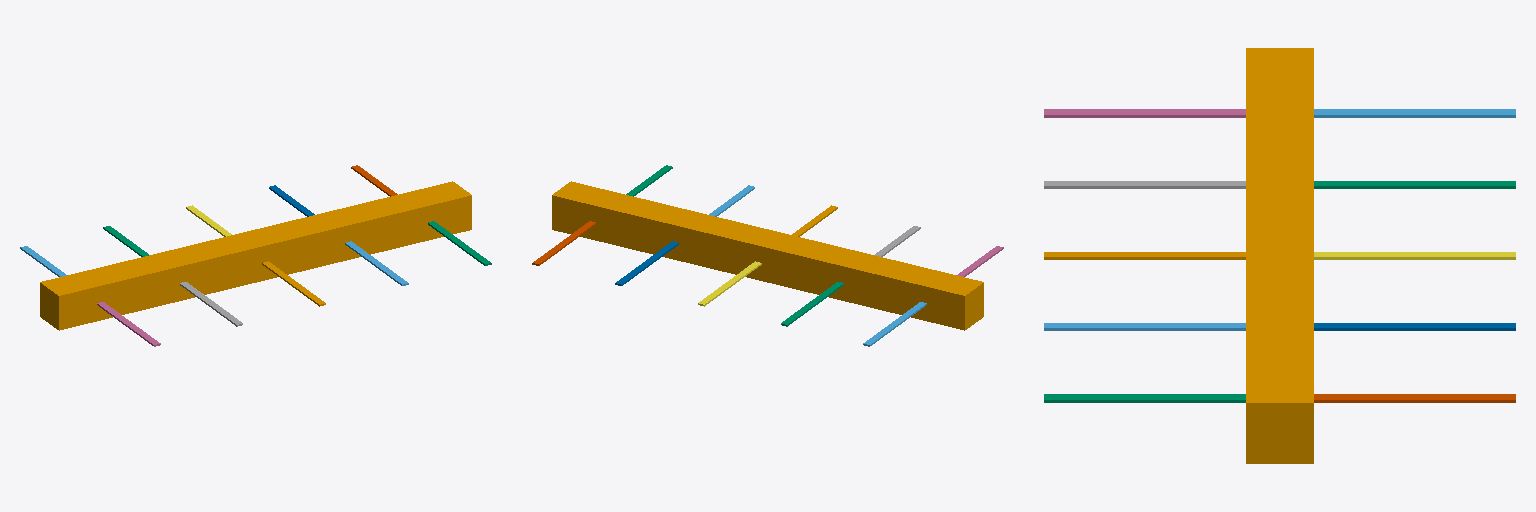
URDF robot description (bench_2s_10m):
<?xml version='1.0' encoding='utf-8'?>
<robot name="bench_2s_10m">
  <link name="extrusion_base">
    <inertial xyz="0 0 0" rpy="0 0 0">
      <mass value="2.16" />
      <inertia ixx="0.000576" iyy="0.045288" izz="0.045288" ixy="0" ixz="0" iyz="0" />
    </inertial>
    <visual>
      <origin xyz="0 0 0" rpy="0 0 0" />
      <geometry>
        <box size="0.5 0.04 0.04" />
      </geometry>
    </visual>
    <collision>
      <origin xyz="0 0 0" rpy="0 0 0" />
      <geometry>
        <box size="0.5 0.04 0.04" />
      </geometry>
    </collision>
  </link>
  <link name="bench_j1_hand">
    <inertial xyz="0 0.06 0" rpy="0 0 0">
      <mass value="0.02" />
      <inertia ixx="2.400666667e-05" iyy="1.133333333e-07" izz="2.410666667e-05" ixy="0" ixz="0" iyz="0" />
    </inertial>
    <visual>
      <origin xyz="0 0.06 0" rpy="0 0 0" />
      <geometry>
        <box size="0.008 0.12 0.002" />
      </geometry>
    </visual>
    <collision>
      <origin xyz="0 0.06 0" rpy="0 0 0" />
      <geometry>
        <box size="0.008 0.12 0.002" />
      </geometry>
    </collision>
  </link>
  <link name="bench_j2_hand">
    <inertial xyz="0 0.06 0" rpy="0 0 0">
      <mass value="0.02" />
      <inertia ixx="2.400666667e-05" iyy="1.133333333e-07" izz="2.410666667e-05" ixy="0" ixz="0" iyz="0" />
    </inertial>
    <visual>
      <origin xyz="0 0.06 0" rpy="0 0 0" />
      <geometry>
        <box size="0.008 0.12 0.002" />
      </geometry>
    </visual>
    <collision>
      <origin xyz="0 0.06 0" rpy="0 0 0" />
      <geometry>
        <box size="0.008 0.12 0.002" />
      </geometry>
    </collision>
  </link>
  <link name="bench_j3_hand">
    <inertial xyz="0 0.06 0" rpy="0 0 0">
      <mass value="0.02" />
      <inertia ixx="2.400666667e-05" iyy="1.133333333e-07" izz="2.410666667e-05" ixy="0" ixz="0" iyz="0" />
    </inertial>
    <visual>
      <origin xyz="0 0.06 0" rpy="0 0 0" />
      <geometry>
        <box size="0.008 0.12 0.002" />
      </geometry>
    </visual>
    <collision>
      <origin xyz="0 0.06 0" rpy="0 0 0" />
      <geometry>
        <box size="0.008 0.12 0.002" />
      </geometry>
    </collision>
  </link>
  <link name="bench_j4_hand">
    <inertial xyz="0 0.06 0" rpy="0 0 0">
      <mass value="0.02" />
      <inertia ixx="2.400666667e-05" iyy="1.133333333e-07" izz="2.410666667e-05" ixy="0" ixz="0" iyz="0" />
    </inertial>
    <visual>
      <origin xyz="0 0.06 0" rpy="0 0 0" />
      <geometry>
        <box size="0.008 0.12 0.002" />
      </geometry>
    </visual>
    <collision>
      <origin xyz="0 0.06 0" rpy="0 0 0" />
      <geometry>
        <box size="0.008 0.12 0.002" />
      </geometry>
    </collision>
  </link>
  <link name="bench_j5_hand">
    <inertial xyz="0 0.06 0" rpy="0 0 0">
      <mass value="0.02" />
      <inertia ixx="2.400666667e-05" iyy="1.133333333e-07" izz="2.410666667e-05" ixy="0" ixz="0" iyz="0" />
    </inertial>
    <visual>
      <origin xyz="0 0.06 0" rpy="0 0 0" />
      <geometry>
        <box size="0.008 0.12 0.002" />
      </geometry>
    </visual>
    <collision>
      <origin xyz="0 0.06 0" rpy="0 0 0" />
      <geometry>
        <box size="0.008 0.12 0.002" />
      </geometry>
    </collision>
  </link>
  <link name="bench_j6_hand">
    <inertial xyz="0 -0.06 0" rpy="0 0 0">
      <mass value="0.02" />
      <inertia ixx="2.400666667e-05" iyy="1.133333333e-07" izz="2.410666667e-05" ixy="0" ixz="0" iyz="0" />
    </inertial>
    <visual>
      <origin xyz="0 -0.06 0" rpy="0 0 0" />
      <geometry>
        <box size="0.008 0.12 0.002" />
      </geometry>
    </visual>
    <collision>
      <origin xyz="0 -0.06 0" rpy="0 0 0" />
      <geometry>
        <box size="0.008 0.12 0.002" />
      </geometry>
    </collision>
  </link>
  <link name="bench_j7_hand">
    <inertial xyz="0 -0.06 0" rpy="0 0 0">
      <mass value="0.02" />
      <inertia ixx="2.400666667e-05" iyy="1.133333333e-07" izz="2.410666667e-05" ixy="0" ixz="0" iyz="0" />
    </inertial>
    <visual>
      <origin xyz="0 -0.06 0" rpy="0 0 0" />
      <geometry>
        <box size="0.008 0.12 0.002" />
      </geometry>
    </visual>
    <collision>
      <origin xyz="0 -0.06 0" rpy="0 0 0" />
      <geometry>
        <box size="0.008 0.12 0.002" />
      </geometry>
    </collision>
  </link>
  <link name="bench_j8_hand">
    <inertial xyz="0 -0.06 0" rpy="0 0 0">
      <mass value="0.02" />
      <inertia ixx="2.400666667e-05" iyy="1.133333333e-07" izz="2.410666667e-05" ixy="0" ixz="0" iyz="0" />
    </inertial>
    <visual>
      <origin xyz="0 -0.06 0" rpy="0 0 0" />
      <geometry>
        <box size="0.008 0.12 0.002" />
      </geometry>
    </visual>
    <collision>
      <origin xyz="0 -0.06 0" rpy="0 0 0" />
      <geometry>
        <box size="0.008 0.12 0.002" />
      </geometry>
    </collision>
  </link>
  <link name="bench_j9_hand">
    <inertial xyz="0 -0.06 0" rpy="0 0 0">
      <mass value="0.02" />
      <inertia ixx="2.400666667e-05" iyy="1.133333333e-07" izz="2.410666667e-05" ixy="0" ixz="0" iyz="0" />
    </inertial>
    <visual>
      <origin xyz="0 -0.06 0" rpy="0 0 0" />
      <geometry>
        <box size="0.008 0.12 0.002" />
      </geometry>
    </visual>
    <collision>
      <origin xyz="0 -0.06 0" rpy="0 0 0" />
      <geometry>
        <box size="0.008 0.12 0.002" />
      </geometry>
    </collision>
  </link>
  <link name="bench_j10_hand">
    <inertial xyz="0 -0.06 0" rpy="0 0 0">
      <mass value="0.02" />
      <inertia ixx="2.400666667e-05" iyy="1.133333333e-07" izz="2.410666667e-05" ixy="0" ixz="0" iyz="0" />
    </inertial>
    <visual>
      <origin xyz="0 -0.06 0" rpy="0 0 0" />
      <geometry>
        <box size="0.008 0.12 0.002" />
      </geometry>
    </visual>
    <collision>
      <origin xyz="0 -0.06 0" rpy="0 0 0" />
      <geometry>
        <box size="0.008 0.12 0.002" />
      </geometry>
    </collision>
  </link>
  <joint name="bench_j1" type="revolute">
    <origin xyz="-0.2 0.02 0" rpy="0 0 0" />
    <parent link="extrusion_base" />
    <child link="bench_j1_hand" />
    <axis xyz="0 0 1" />
    <limit lower="-0.79" upper="0.79" effort="0.8" velocity="10" />
    <dynamics damping="0" friction="0" />
  </joint>
  <joint name="bench_j2" type="revolute">
    <origin xyz="-0.1 0.02 0" rpy="0 0 0" />
    <parent link="extrusion_base" />
    <child link="bench_j2_hand" />
    <axis xyz="0 0 1" />
    <limit lower="-1.05" upper="1.05" effort="0.8" velocity="10" />
    <dynamics damping="0" friction="0" />
  </joint>
  <joint name="bench_j3" type="revolute">
    <origin xyz="0 0.02 0" rpy="0 0 0" />
    <parent link="extrusion_base" />
    <child link="bench_j3_hand" />
    <axis xyz="0 0 1" />
    <limit lower="-1.31" upper="1.31" effort="0.8" velocity="10" />
    <dynamics damping="0" friction="0" />
  </joint>
  <joint name="bench_j4" type="revolute">
    <origin xyz="0.1 0.02 0" rpy="0 0 0" />
    <parent link="extrusion_base" />
    <child link="bench_j4_hand" />
    <axis xyz="0 0 1" />
    <limit lower="-1.31" upper="1.31" effort="0.8" velocity="10" />
    <dynamics damping="0" friction="0" />
  </joint>
  <joint name="bench_j5" type="revolute">
    <origin xyz="0.2 0.02 0" rpy="0 0 0" />
    <parent link="extrusion_base" />
    <child link="bench_j5_hand" />
    <axis xyz="0 0 1" />
    <limit lower="-1.31" upper="1.31" effort="0.8" velocity="10" />
    <dynamics damping="0" friction="0" />
  </joint>
  <joint name="bench_j6" type="revolute">
    <origin xyz="-0.2 -0.02 0" rpy="0 0 0" />
    <parent link="extrusion_base" />
    <child link="bench_j6_hand" />
    <axis xyz="0 0 1" />
    <limit lower="-0.79" upper="0.79" effort="0.8" velocity="10" />
    <dynamics damping="0" friction="0" />
  </joint>
  <joint name="bench_j7" type="revolute">
    <origin xyz="-0.1 -0.02 0" rpy="0 0 0" />
    <parent link="extrusion_base" />
    <child link="bench_j7_hand" />
    <axis xyz="0 0 1" />
    <limit lower="-1.05" upper="1.05" effort="0.8" velocity="10" />
    <dynamics damping="0" friction="0" />
  </joint>
  <joint name="bench_j8" type="revolute">
    <origin xyz="0 -0.02 0" rpy="0 0 0" />
    <parent link="extrusion_base" />
    <child link="bench_j8_hand" />
    <axis xyz="0 0 1" />
    <limit lower="-1.31" upper="1.31" effort="0.8" velocity="10" />
    <dynamics damping="0" friction="0" />
  </joint>
  <joint name="bench_j9" type="revolute">
    <origin xyz="0.1 -0.02 0" rpy="0 0 0" />
    <parent link="extrusion_base" />
    <child link="bench_j9_hand" />
    <axis xyz="0 0 1" />
    <limit lower="-1.31" upper="1.31" effort="0.8" velocity="10" />
    <dynamics damping="0" friction="0" />
  </joint>
  <joint name="bench_j10" type="revolute">
    <origin xyz="0.2 -0.02 0" rpy="0 0 0" />
    <parent link="extrusion_base" />
    <child link="bench_j10_hand" />
    <axis xyz="0 0 1" />
    <limit lower="-1.31" upper="1.31" effort="0.8" velocity="10" />
    <dynamics damping="0" friction="0" />
  </joint>
  <ros2_control name="HumanoidActuatorSystem" type="system">
    <hardware>
      <plugin>humanoid_actuator_system/HumanoidActuatorSystem</plugin>
      <param name="safety_manifest_path">config/bench_2s_10m/safety_manifest.yaml</param>
      <param name="safety_manifest_package">humanoid_bringup</param>
    </hardware>
    <joint name="bench_j1">
      <command_interface name="position" />
      <command_interface name="velocity" />
      <command_interface name="effort" />
      <command_interface name="stiffness" />
      <command_interface name="damping" />
      <state_interface name="position" />
      <state_interface name="velocity" />
      <state_interface name="effort" />
    </joint>
    <joint name="bench_j2">
      <command_interface name="position" />
      <command_interface name="velocity" />
      <command_interface name="effort" />
      <command_interface name="stiffness" />
      <command_interface name="damping" />
      <state_interface name="position" />
      <state_interface name="velocity" />
      <state_interface name="effort" />
    </joint>
    <joint name="bench_j3">
      <command_interface name="position" />
      <command_interface name="velocity" />
      <command_interface name="effort" />
      <command_interface name="stiffness" />
      <command_interface name="damping" />
      <state_interface name="position" />
      <state_interface name="velocity" />
      <state_interface name="effort" />
    </joint>
    <joint name="bench_j4">
      <command_interface name="position" />
      <command_interface name="velocity" />
      <command_interface name="effort" />
      <command_interface name="stiffness" />
      <command_interface name="damping" />
      <state_interface name="position" />
      <state_interface name="velocity" />
      <state_interface name="effort" />
    </joint>
    <joint name="bench_j5">
      <command_interface name="position" />
      <command_interface name="velocity" />
      <command_interface name="effort" />
      <command_interface name="stiffness" />
      <command_interface name="damping" />
      <state_interface name="position" />
      <state_interface name="velocity" />
      <state_interface name="effort" />
    </joint>
    <joint name="bench_j6">
      <command_interface name="position" />
      <command_interface name="velocity" />
      <command_interface name="effort" />
      <command_interface name="stiffness" />
      <command_interface name="damping" />
      <state_interface name="position" />
      <state_interface name="velocity" />
      <state_interface name="effort" />
    </joint>
    <joint name="bench_j7">
      <command_interface name="position" />
      <command_interface name="velocity" />
      <command_interface name="effort" />
      <command_interface name="stiffness" />
      <command_interface name="damping" />
      <state_interface name="position" />
      <state_interface name="velocity" />
      <state_interface name="effort" />
    </joint>
    <joint name="bench_j8">
      <command_interface name="position" />
      <command_interface name="velocity" />
      <command_interface name="effort" />
      <command_interface name="stiffness" />
      <command_interface name="damping" />
      <state_interface name="position" />
      <state_interface name="velocity" />
      <state_interface name="effort" />
    </joint>
    <joint name="bench_j9">
      <command_interface name="position" />
      <command_interface name="velocity" />
      <command_interface name="effort" />
      <command_interface name="stiffness" />
      <command_interface name="damping" />
      <state_interface name="position" />
      <state_interface name="velocity" />
      <state_interface name="effort" />
    </joint>
    <joint name="bench_j10">
      <command_interface name="position" />
      <command_interface name="velocity" />
      <command_interface name="effort" />
      <command_interface name="stiffness" />
      <command_interface name="damping" />
      <state_interface name="position" />
      <state_interface name="velocity" />
      <state_interface name="effort" />
    </joint>
  </ros2_control>
</robot>

--- What the picture shows (computed from the rendered views, not written in the file) ---
Views: 3 orthographic renders of the robot side by side, from view 1: azimuth 30°, elevation 25°; view 2: azimuth 150°, elevation 25°; view 3: azimuth 270°, elevation 25°.
Robot: bench_2s_10m — 11 links, 10 joints (10 revolute); root link extrusion_base; default pose: every joint at zero.
Visible links, largest first — view 1: extrusion_base; view 2: extrusion_base; view 3: extrusion_base, bench_j1_hand, bench_j5_hand, bench_j6_hand, bench_j10_hand, bench_j2_hand, bench_j3_hand, bench_j4_hand, bench_j7_hand, bench_j8_hand, bench_j9_hand.
Link boxes in pixels (x1=…): extrusion_base: x1=40, y1=181, x2=471, y2=330; extrusion_base: x1=552, y1=181, x2=983, y2=330; extrusion_base: x1=1246, y1=48, x2=1313, y2=463; bench_j1_hand: x1=1314, y1=109, x2=1515, y2=117; bench_j5_hand: x1=1314, y1=394, x2=1515, y2=402; bench_j6_hand: x1=1044, y1=109, x2=1245, y2=117; bench_j10_hand: x1=1044, y1=394, x2=1245, y2=402; bench_j2_hand: x1=1314, y1=181, x2=1515, y2=188; bench_j3_hand: x1=1314, y1=252, x2=1515, y2=259; bench_j4_hand: x1=1314, y1=323, x2=1515, y2=330; bench_j7_hand: x1=1044, y1=181, x2=1245, y2=188; bench_j8_hand: x1=1044, y1=252, x2=1245, y2=259; bench_j9_hand: x1=1044, y1=323, x2=1245, y2=330.
Bounding box of the posed robot: 0.5 × 0.28 × 0.04 m (x, y, z).
Geometry: primitives only (box / cylinder / sphere), no mesh files.
